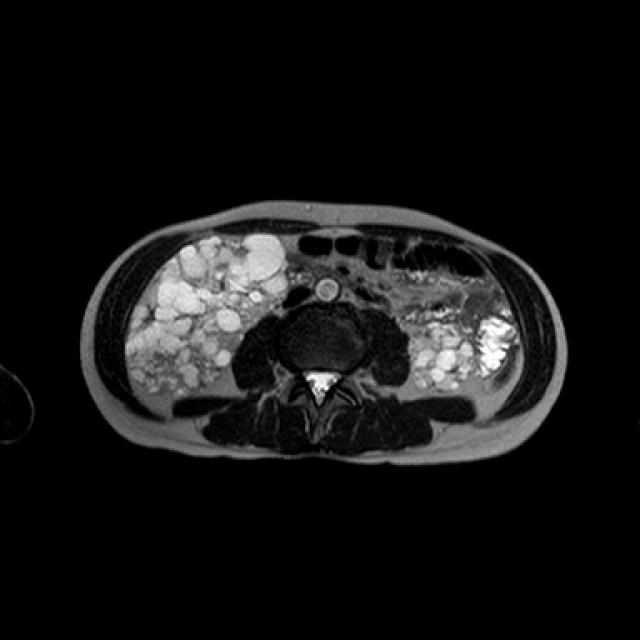sag: (124, 233, 288, 400)
sol: (407, 320, 480, 395)
